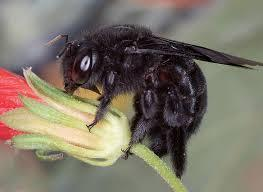Braunsapis: (58, 23, 235, 169)
